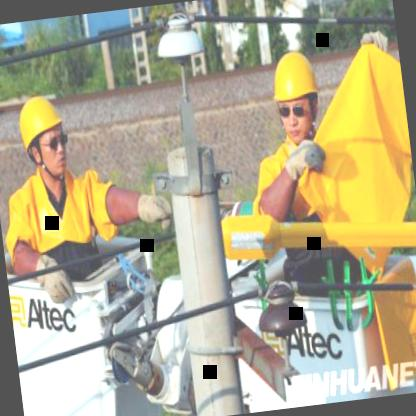helmet: (264, 40, 330, 146), (8, 90, 71, 184)
